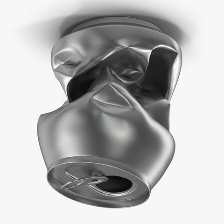can: (34, 13, 188, 211)
